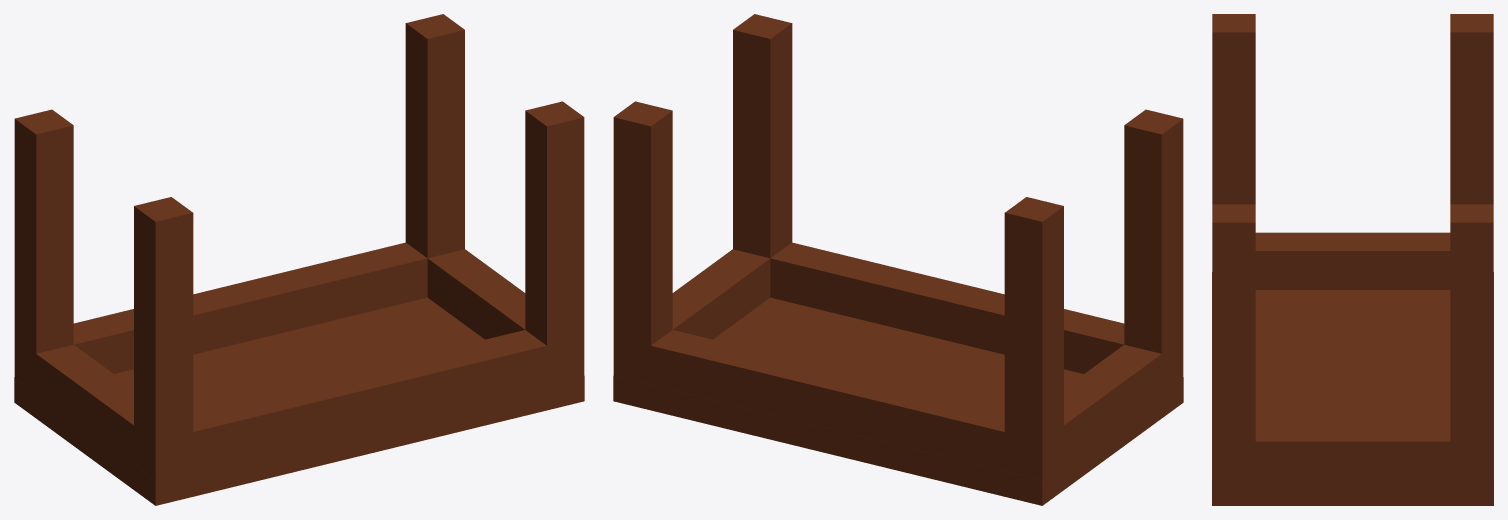
The model's file is table1.fbx.
3 renders of one model, left to right at view 1: azimuth 30°, elevation 25°; view 2: azimuth 150°, elevation 25°; view 3: azimuth 270°, elevation 25°, orthographic.
Visible parts, largest first — view 1: Cube.003; view 2: Cube.003; view 3: Cube.003.
Boxes of the visible parts, x1,y1,x2,y2 form: Cube.003: (14, 14, 584, 505); Cube.003: (613, 14, 1183, 505); Cube.003: (1212, 14, 1493, 505).
Bounding box in the file's own units: 826 × 522 × 471.
